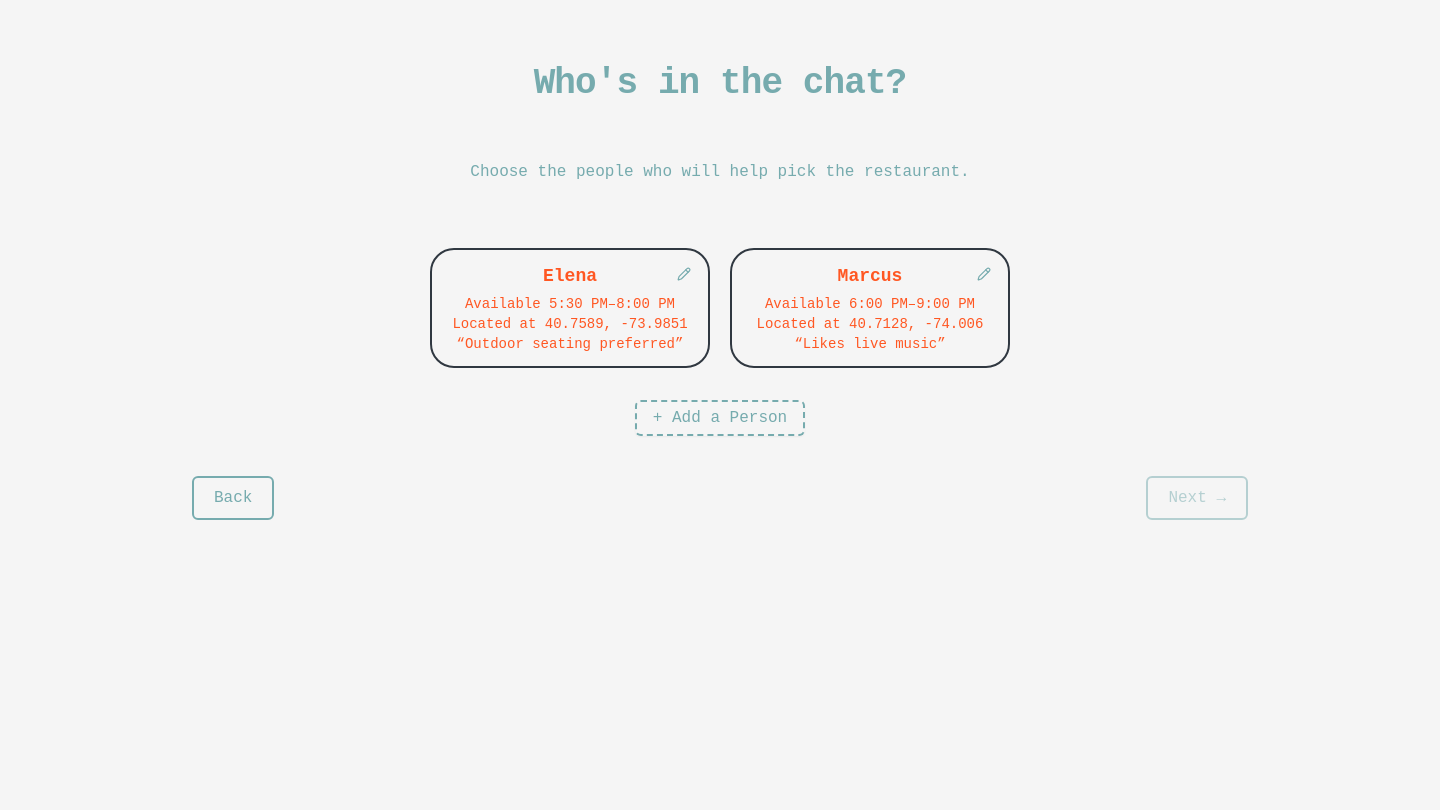
Test: edits a person and reports the updated list
Click the button named "edit elena".
click(684, 274)  # box [670,260,698,288]
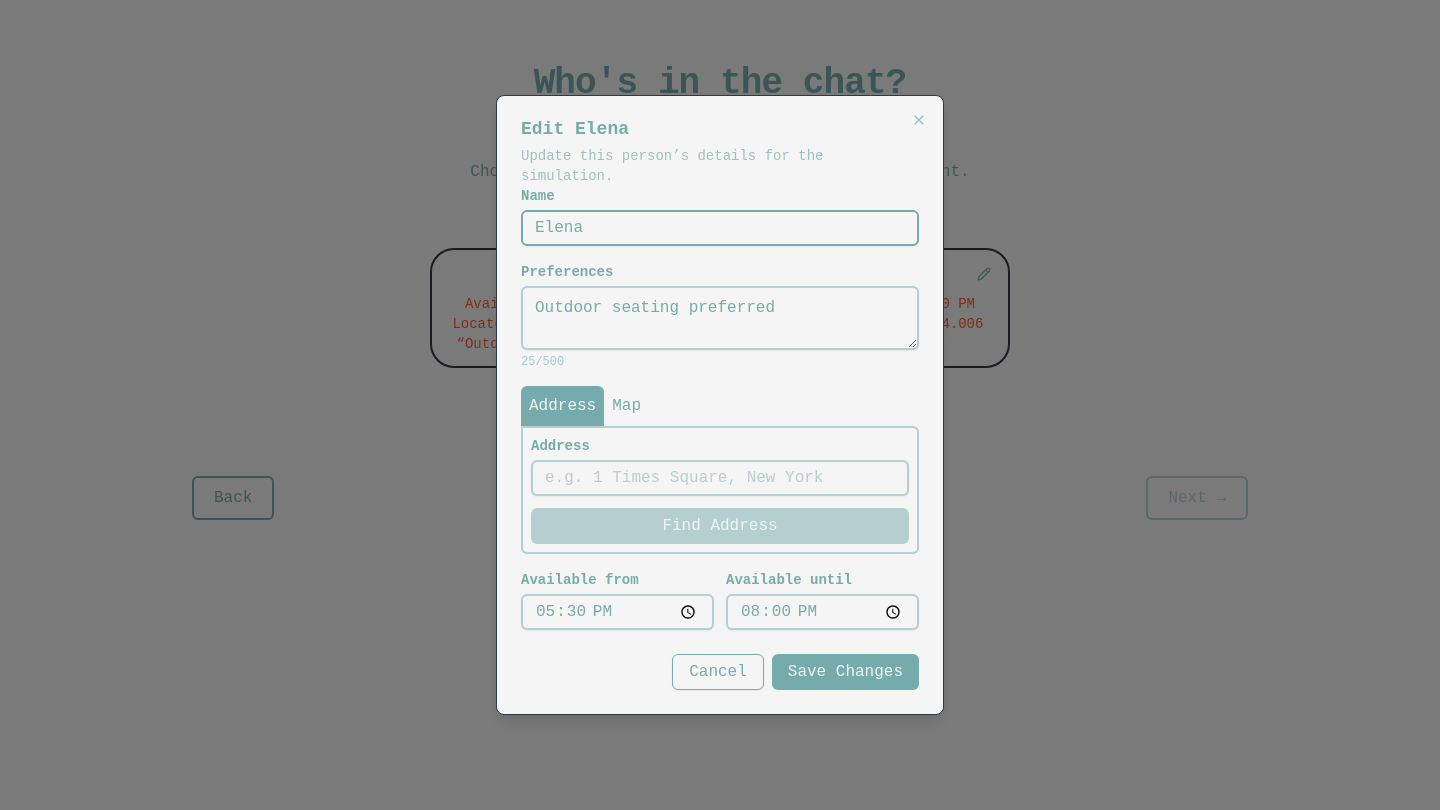
Clear the text box labelled "Preferences" at {"x": 720, "y": 318}, box [521,286,919,350]
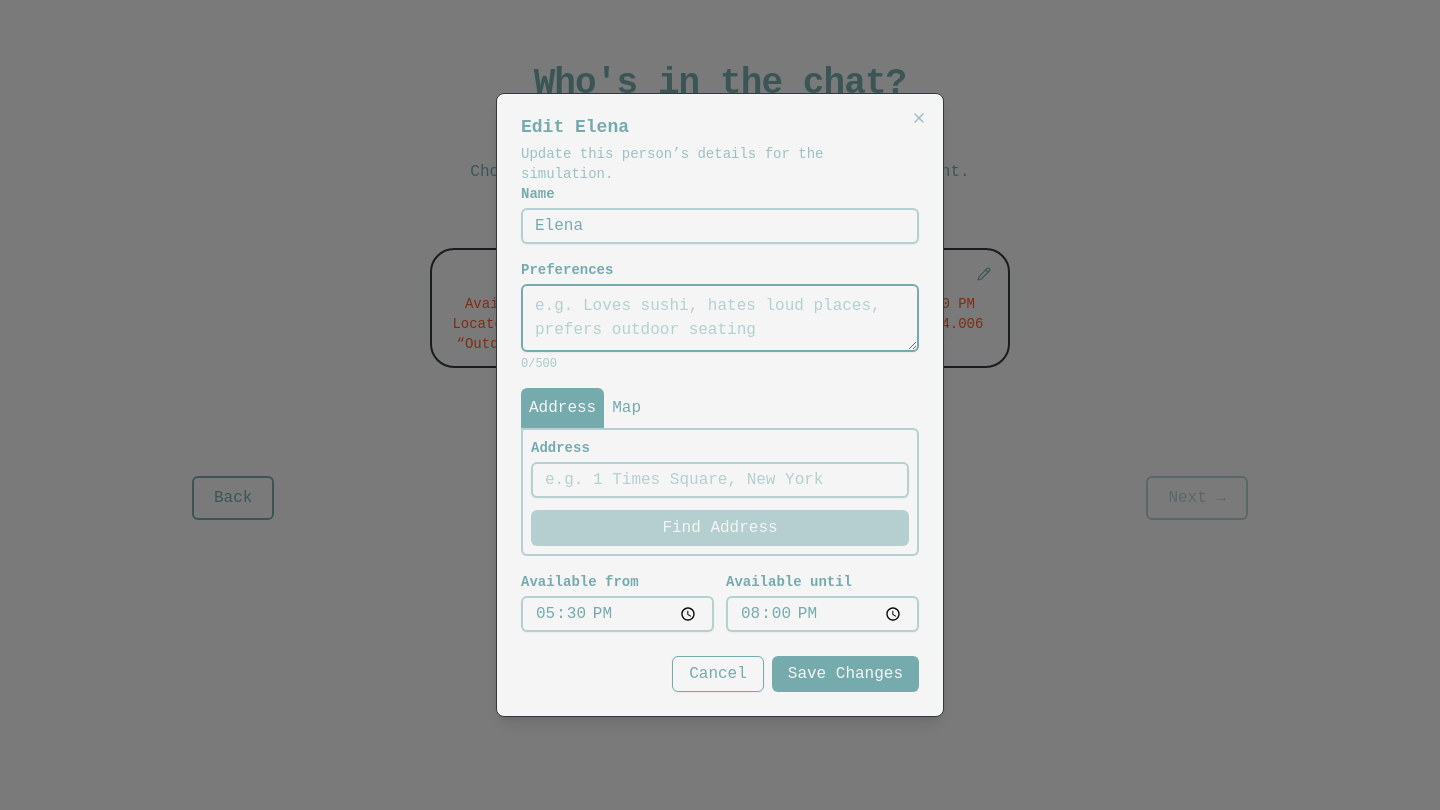
Type "Quiet restaurants" into the text box labelled "Preferences".
click(720, 318); type("Quiet restaurants")  # box [521,284,919,352]
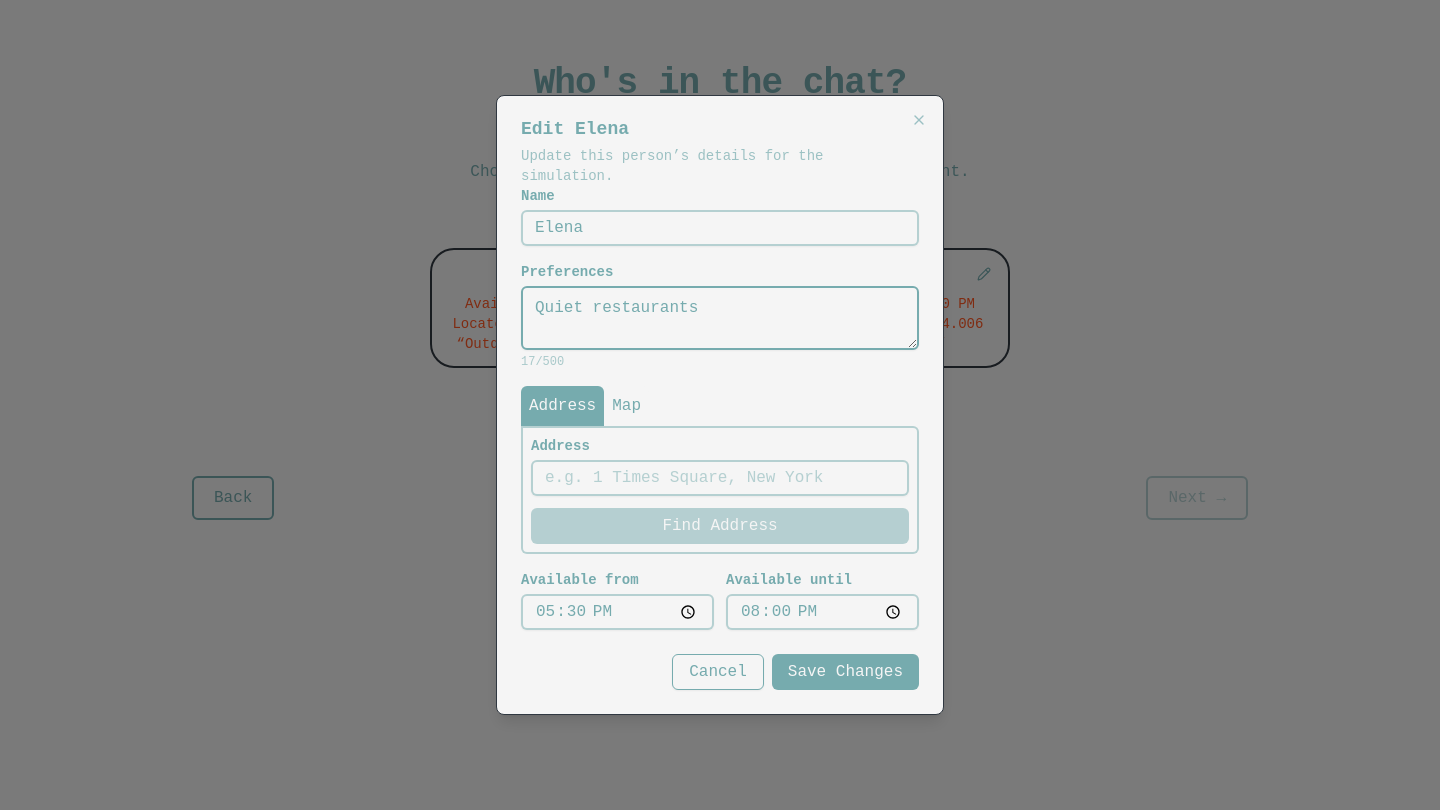
Click the button "Save Changes".
click(845, 672)  # box [772,654,919,690]
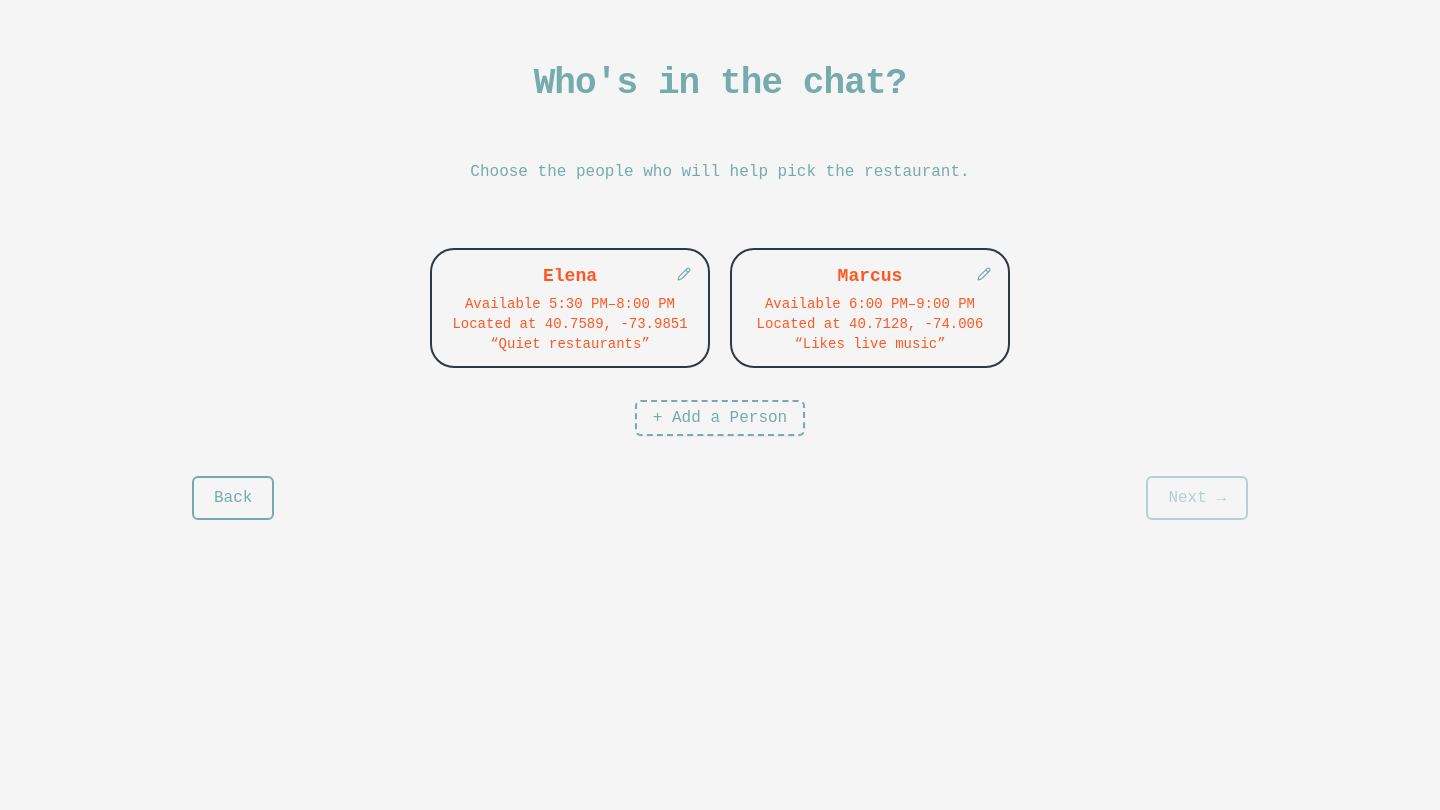
Check: the text "“Quiet restaurants”" is shown, box [490,336,650,352]
